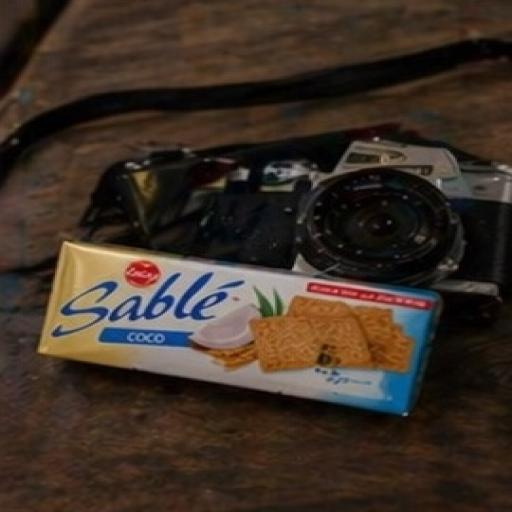sable: (0, 172, 498, 457)
